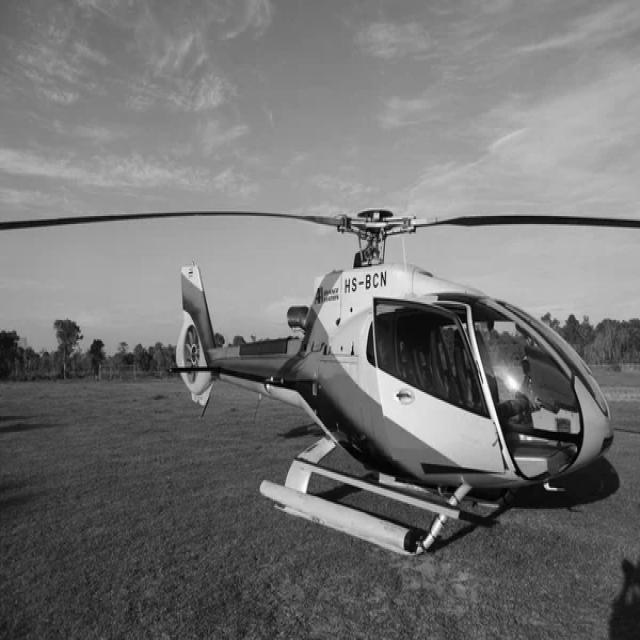Helicopter: (0, 209, 639, 555)
